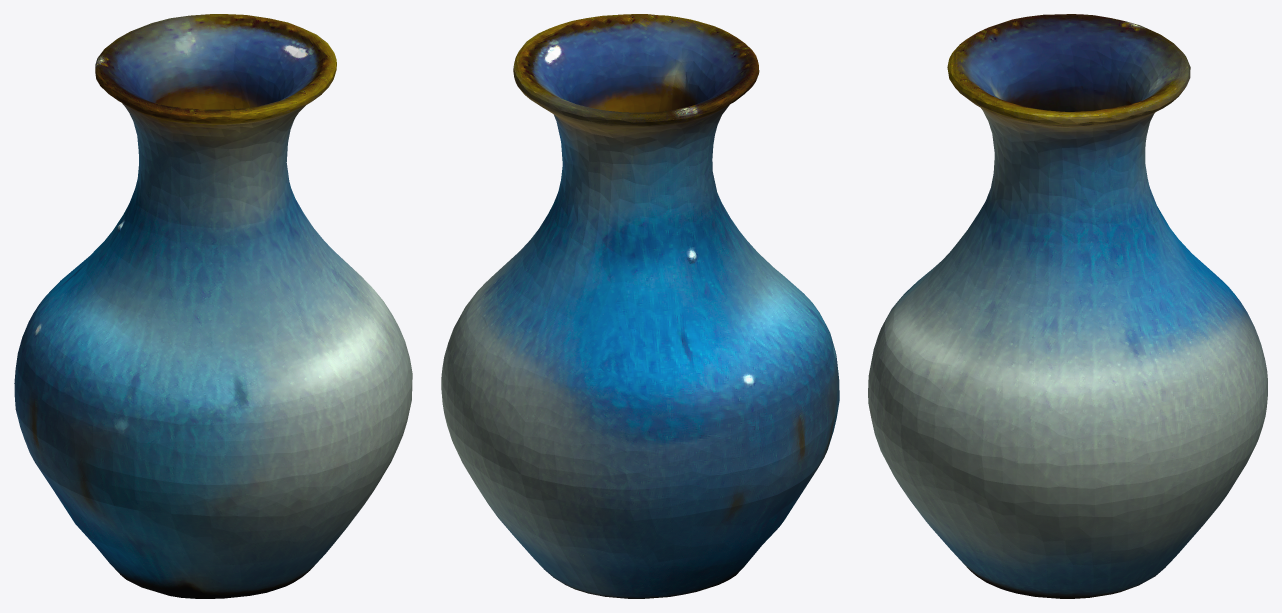
File: vase.glb
3 views of the same model, side by side, from view 1: azimuth 30°, elevation 25°; view 2: azimuth 150°, elevation 25°; view 3: azimuth 270°, elevation 25° (orthographic).
Visible parts, largest first — view 1: mat0; view 2: mat0; view 3: mat0.
Part boxes in pixels (x1,y1,x2,y2): mat0: [14, 14, 412, 598]; mat0: [441, 14, 839, 598]; mat0: [868, 14, 1267, 598].
Bounding box in the file's own units: 0.131 × 0.18 × 0.1312.
Materials: 1 (1 with a texture image).
